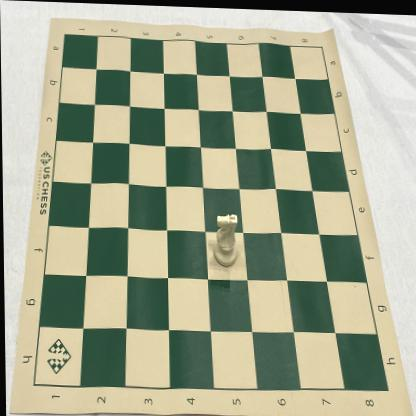white-knight: (212, 212, 238, 267)
